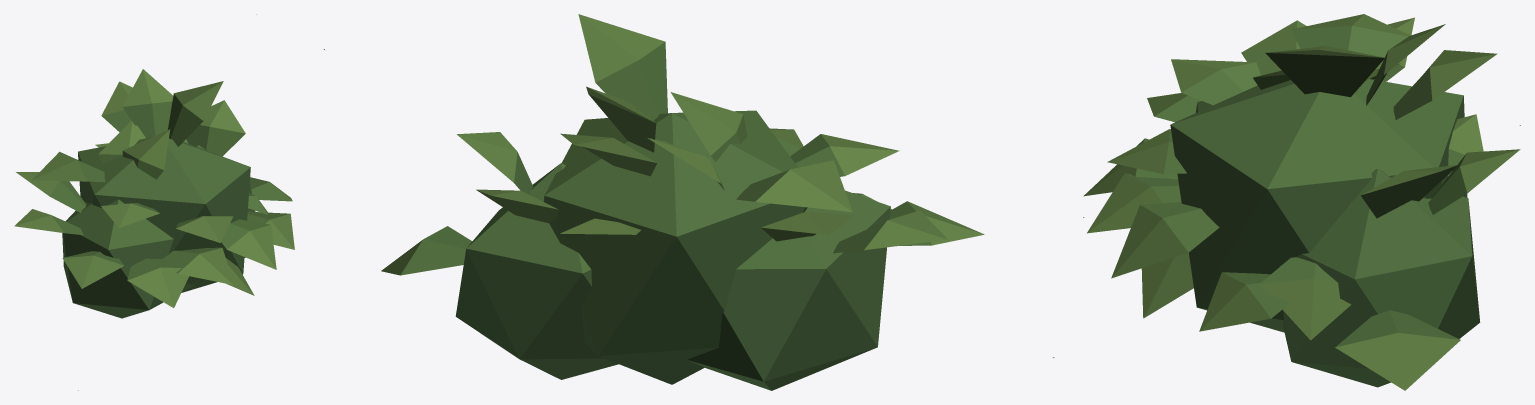
The model's file is Bush1_lite_leaf.glb.
3 views of the same model, side by side, from view 1: azimuth 30°, elevation 25°; view 2: azimuth 150°, elevation 25°; view 3: azimuth 270°, elevation 25° (orthographic). The views are drawn at different scales.
Parts seen in each view (by area): view 1: Bush1_lite_leaf; view 2: Bush1_lite_leaf; view 3: Bush1_lite_leaf.
Boxes of the visible parts, x1,y1,x2,y2 form: Bush1_lite_leaf: (14, 14, 294, 390); Bush1_lite_leaf: (323, 14, 1054, 390); Bush1_lite_leaf: (1083, 14, 1520, 390).
Size of the model in its own units: 5.02 by 3.19 by 3.68.
